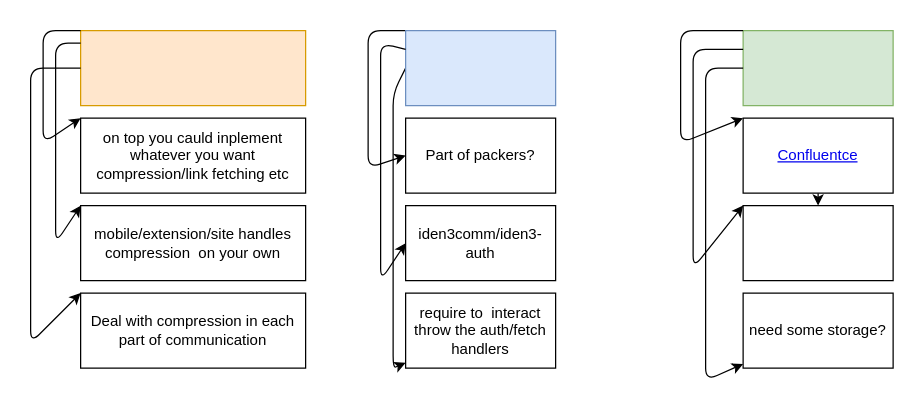
The diagram is 915 pixels wide and 413 high, and some of its shapes have lost their labels. The shapes that lost their labels are listed below. From the top down, each one's centre as x and y in pixels, then its label:
the point at 192,67: out of libs
the point at 480,67: Compression
the point at 817,67: link inplementation
the point at 817,242: Adjust protocol
